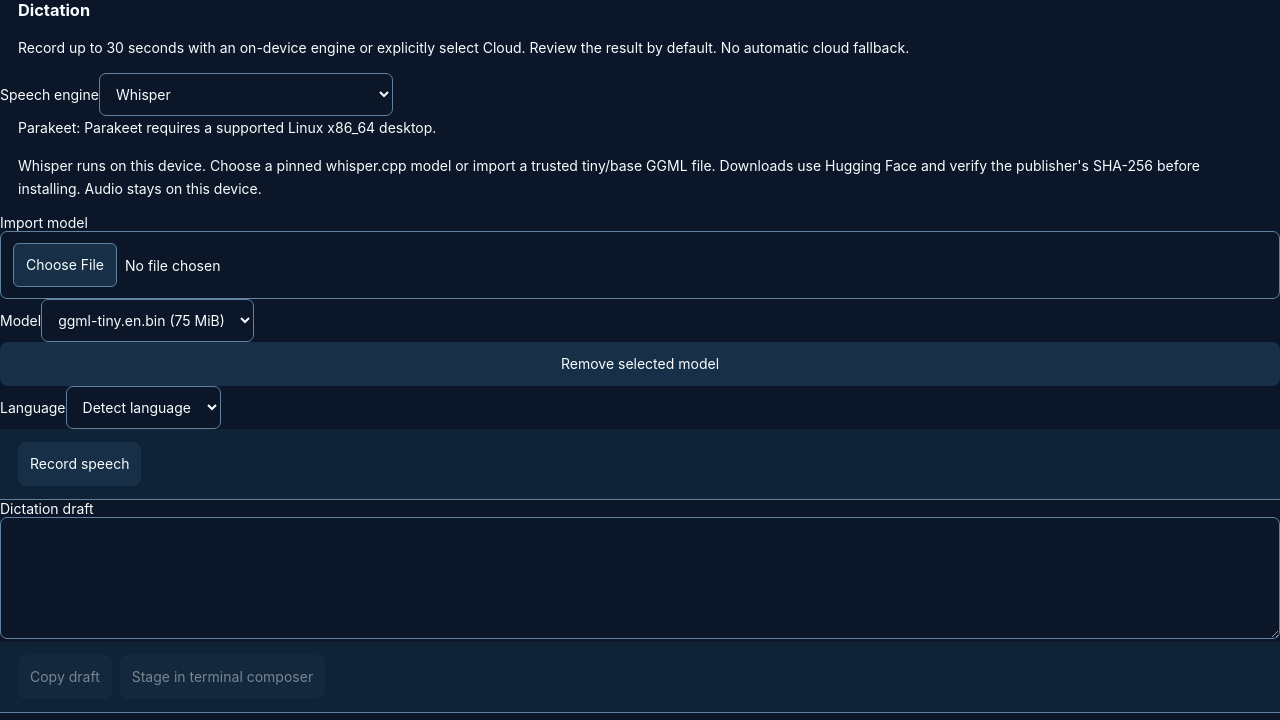
Test case: requires a local model and explicit recording and handles microphone denial
Check: the dropdown labelled "Model" shows "ggml-tiny.en.bin (75 MiB)", box [41,299,254,342]
Step 1. Click the button "Record speech" → coordinates (80, 464), box [18,442,142,486]
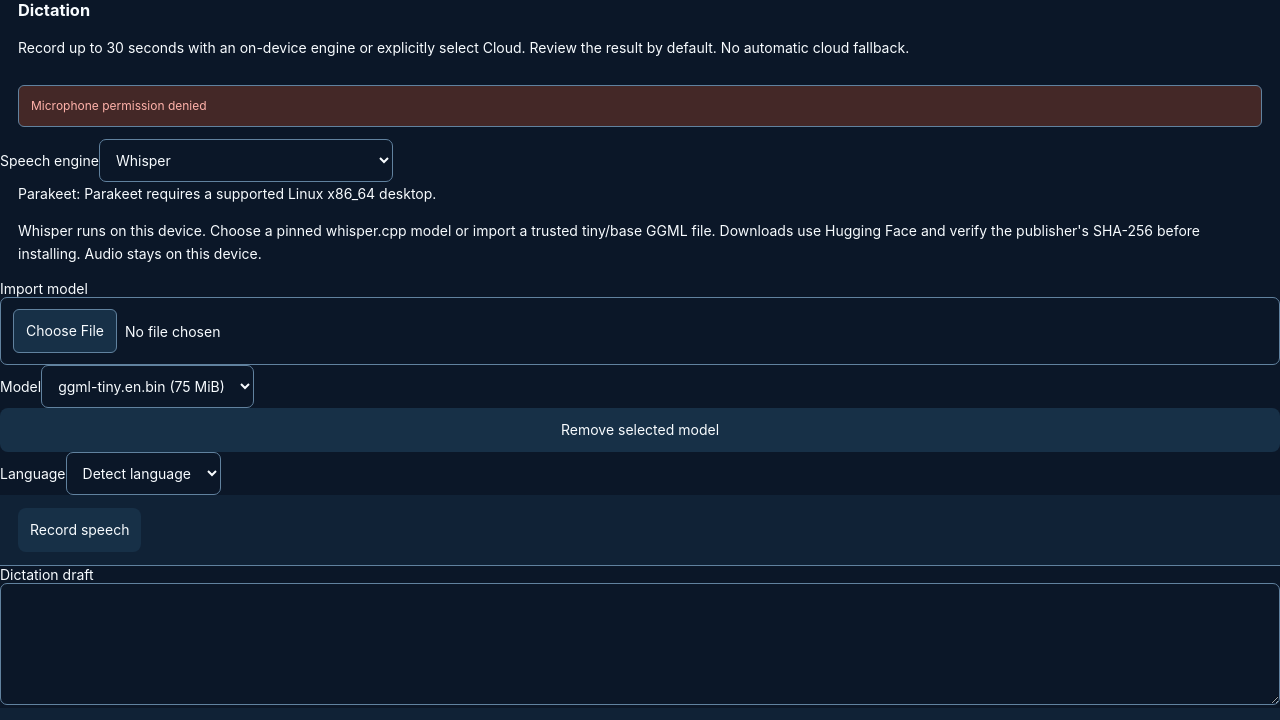
Check: the text "Microphone permission denied" is shown, box [18,86,1262,127]
